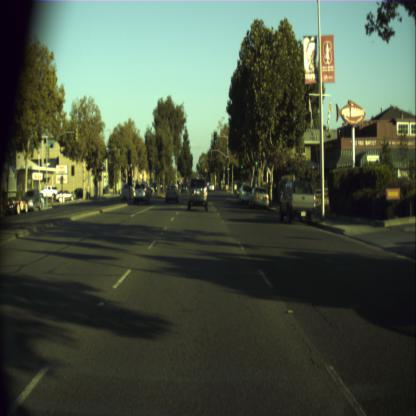Green: (240, 156, 243, 170), (214, 132, 217, 143), (254, 154, 257, 165)
RedLeft: (127, 171, 131, 184)
